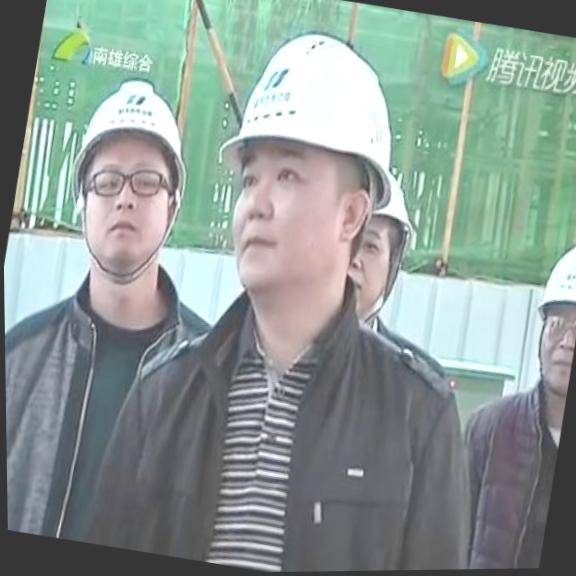no_safety_vest: (72, 248, 522, 575), (4, 235, 240, 562), (420, 351, 573, 570)
